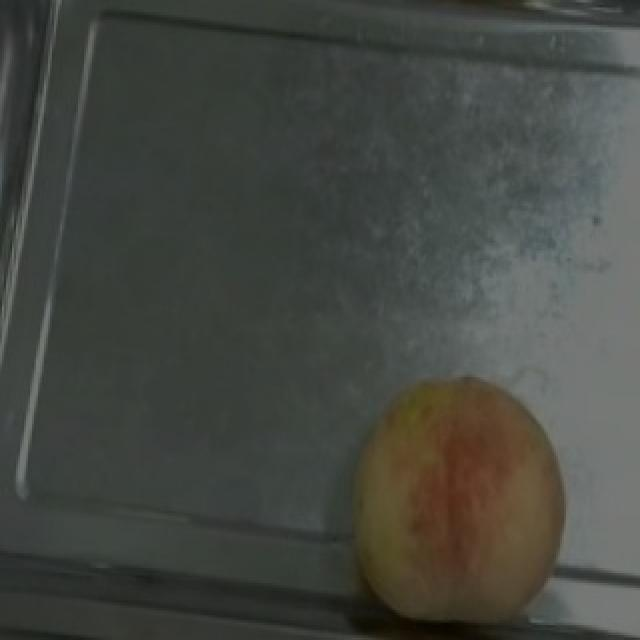Fruit: (324, 360, 590, 638)
